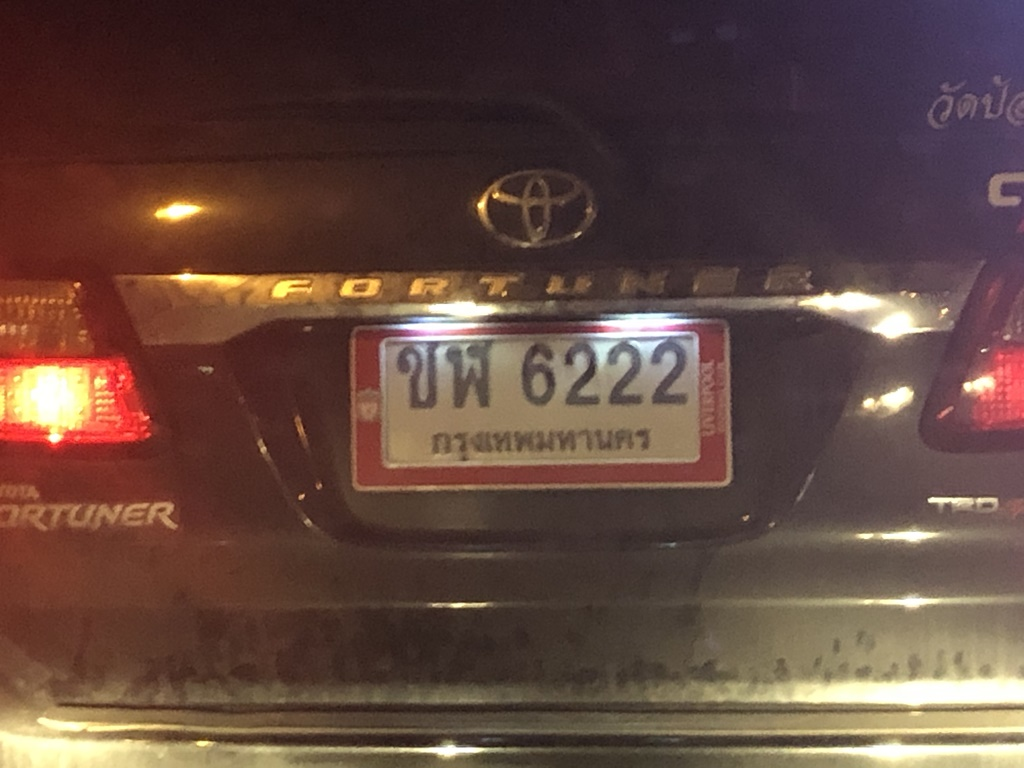six: (507, 331, 564, 412)
two: (591, 338, 649, 416), (547, 341, 605, 413), (643, 331, 694, 410)
